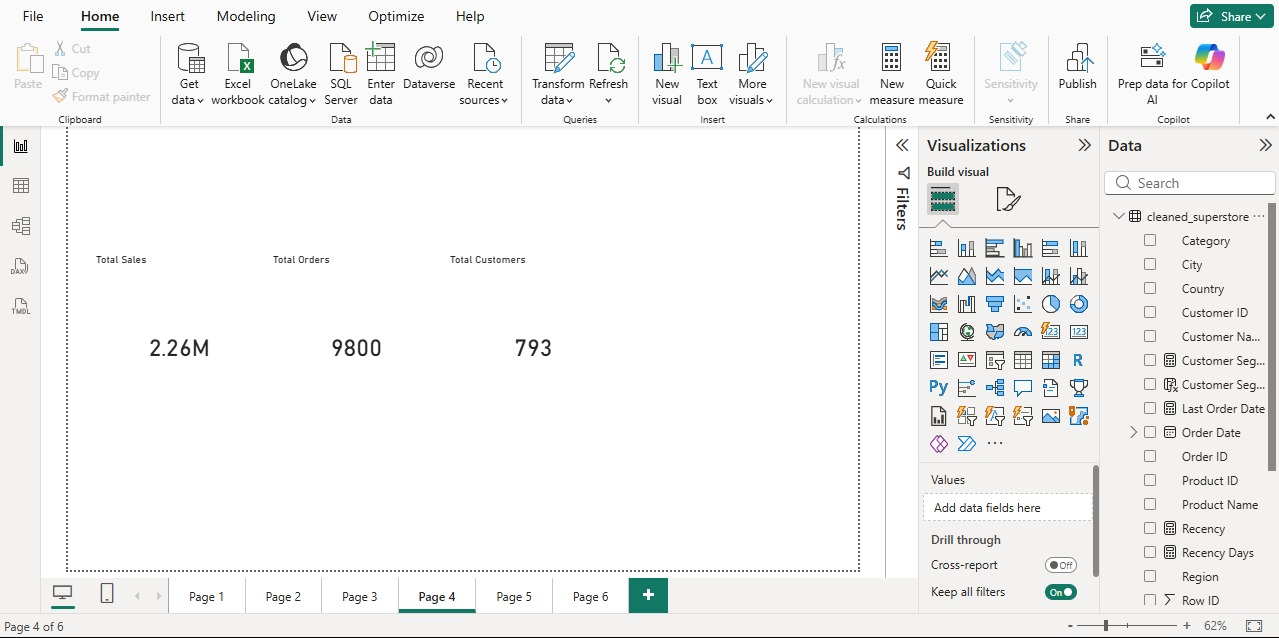

Layout of this report page (visuals, bound fields, positions):
{"tool":"powerbi","page":{"name":"Page 4","canvas":[1280,720],"ordinal":3},"visuals":[{"type":"card","title":"Total Sales","fields":{"Values":["Sum(cleaned_superstore.Sales)"]},"box":[40,206.2,280,280],"z":0},{"type":"card","title":"Total Orders","fields":{"Values":["CountNonNull(cleaned_superstore.Order ID)"]},"box":[327.5,206.2,280,280],"z":1000},{"type":"card","title":"Total Customers","fields":{"Values":["Count(cleaned_superstore.Customer ID)"]},"box":[615,206.2,280,280],"z":2000}]}

Visuals, with their boxes on the page's 1280x720 design canvas (x1, y1, x2, y2). These are canvas units, not pixel positions in the 1279x638 screenshot, which may show the page scaled, cropped or inside an application window:
"Total Sales" card: box=[40, 206, 320, 486]
"Total Orders" card: box=[328, 206, 608, 486]
"Total Customers" card: box=[615, 206, 895, 486]
